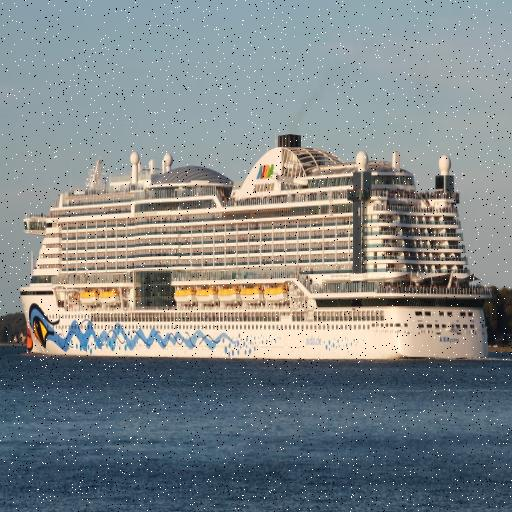cruises: (16, 125, 493, 365)
